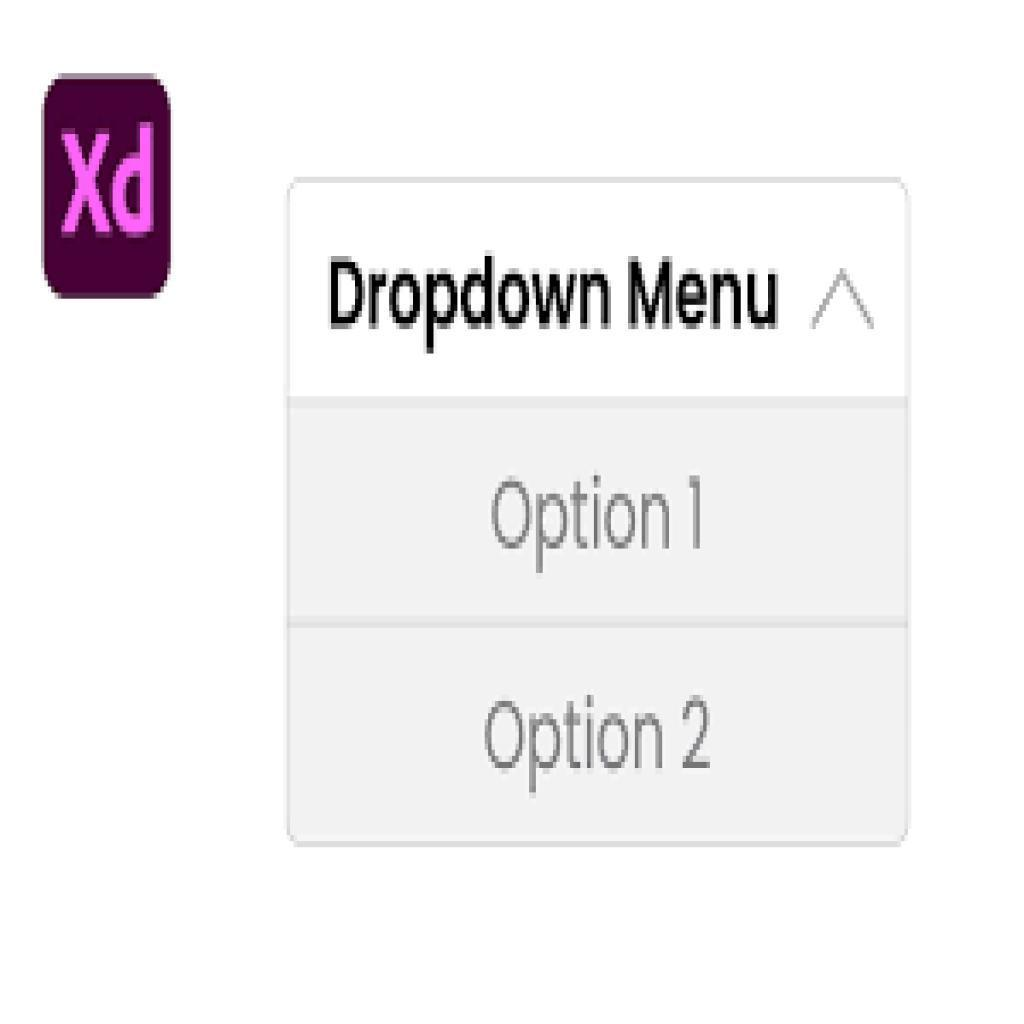dropdown: (287, 179, 913, 403)
